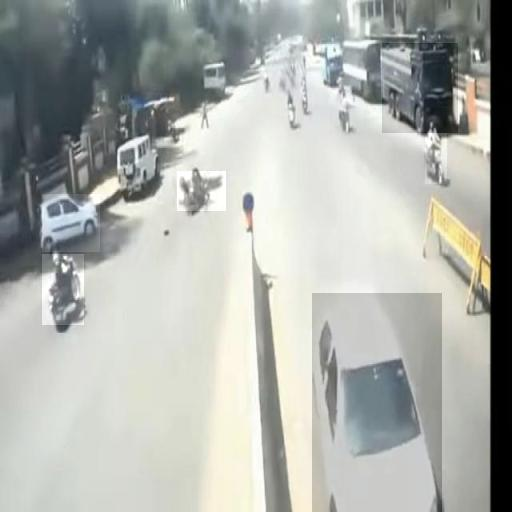小汽车: (312, 293, 442, 512), (382, 43, 458, 133), (42, 194, 100, 252), (116, 138, 160, 190)
自行车: (42, 254, 84, 325), (177, 171, 226, 211), (425, 122, 447, 184)
